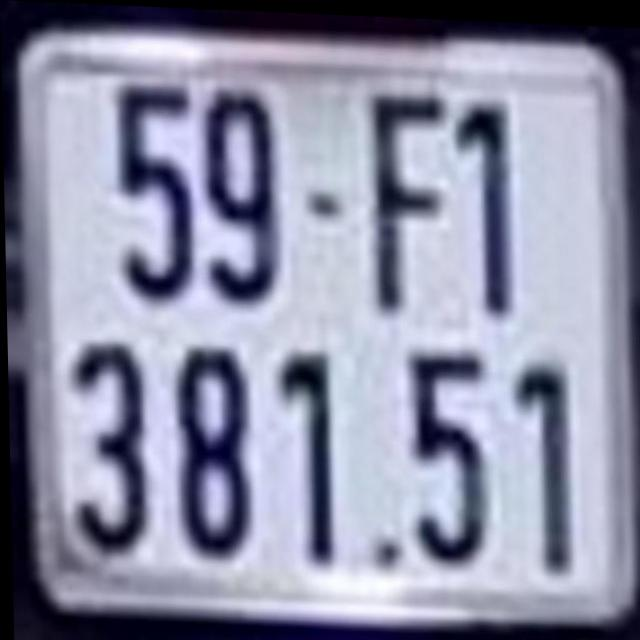1: (275, 343, 342, 556), (522, 356, 581, 573), (464, 93, 520, 311)
3: (75, 340, 141, 548)
5: (406, 347, 491, 563), (120, 80, 195, 293)
8: (174, 341, 253, 553)
9: (203, 95, 279, 300)
F: (367, 86, 461, 306)
